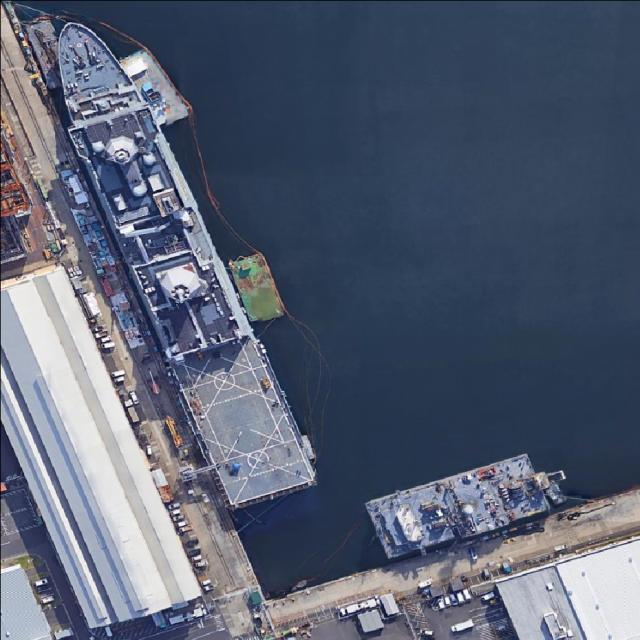Auxiliary Ships: (27, 1, 321, 518)
